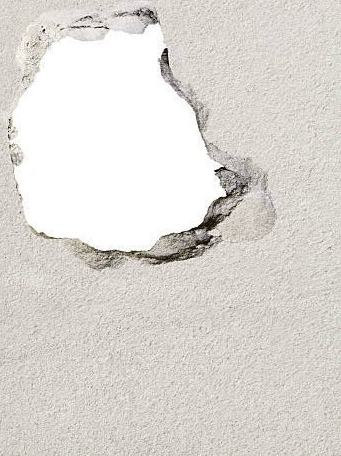Spalling: (6, 6, 250, 271)
